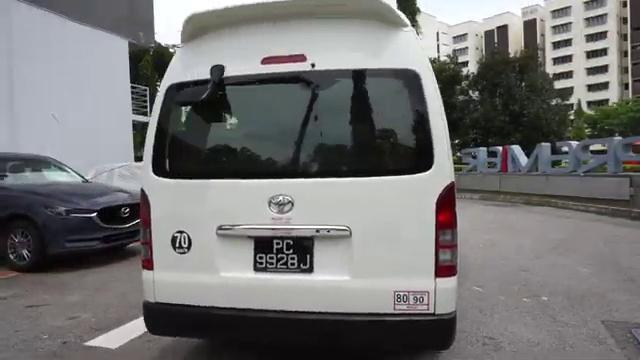Van: (140, 0, 474, 339)
